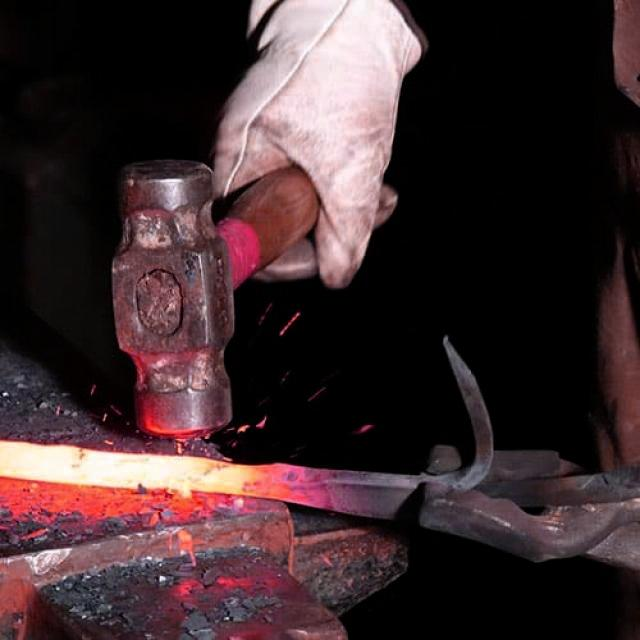hammer: (90, 147, 344, 437)
